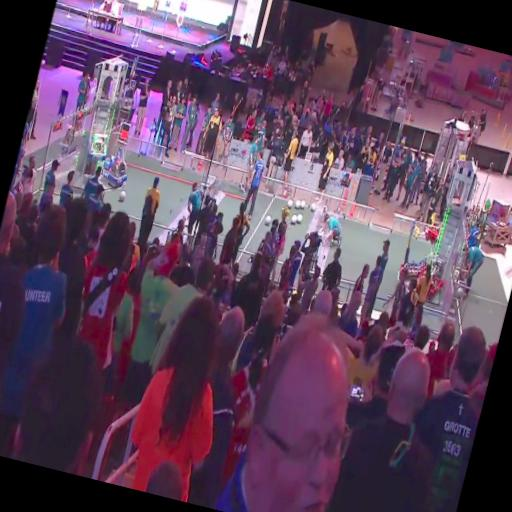robot: (396, 216, 438, 282), (415, 248, 451, 304), (99, 142, 136, 190), (83, 124, 115, 164), (421, 211, 446, 243)
